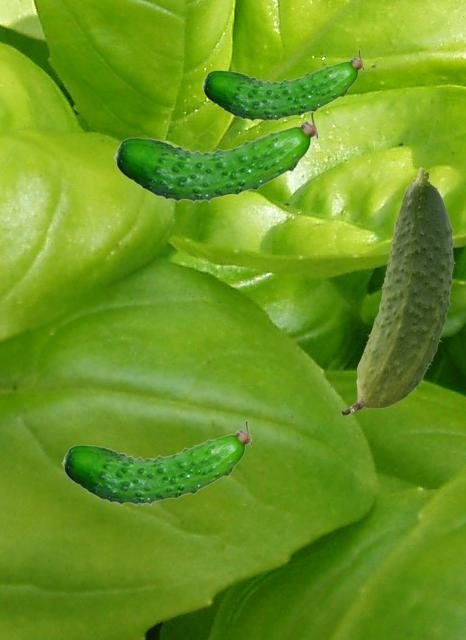cucumber: (341, 167, 454, 414), (113, 111, 316, 202), (61, 420, 250, 505), (201, 49, 362, 121)
